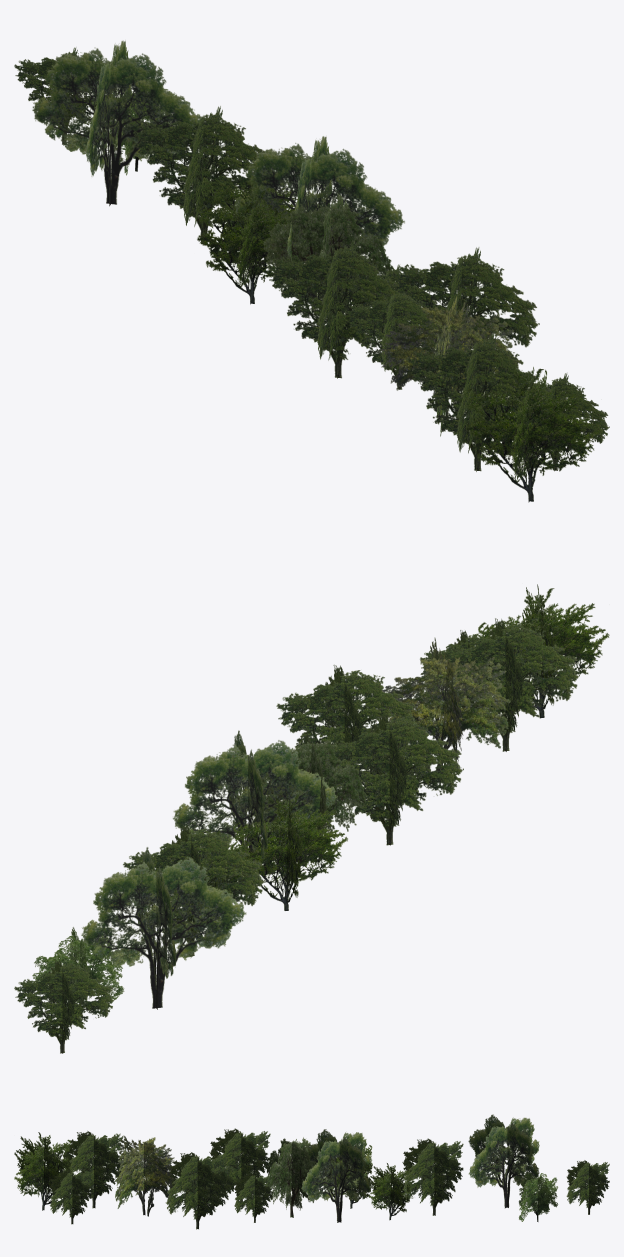
Rendered from v_forest27r.gltf.
3 views of the same model, one above another, from view 1: azimuth 30°, elevation 25°; view 2: azimuth 150°, elevation 25°; view 3: azimuth 270°, elevation 25° (orthographic). The views are drawn at different scales.
Bounding box in the file's own units: 20.9 × 17.03 × 102.
1 material, 1 textured.
